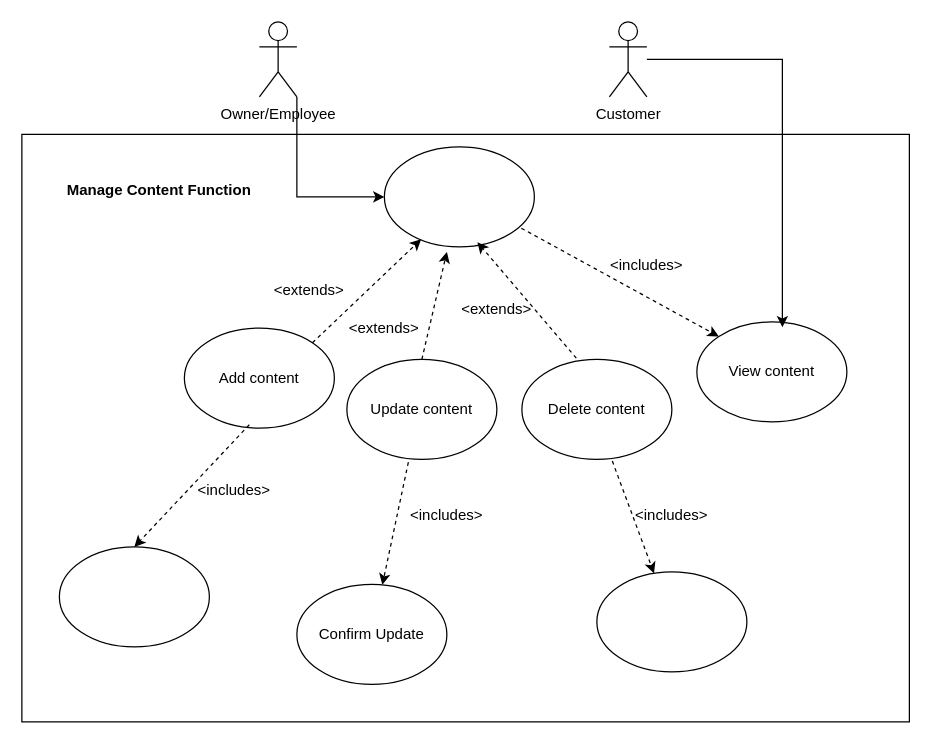
The diagram is 931 pixels wide and 744 high, and some of its shapes have lost their labels. Each missing label, with the centre of its shape:
Confirm Addition: pixel 133 596
Confirm Deletion: pixel 671 621
Manage Content: pixel 458 196
